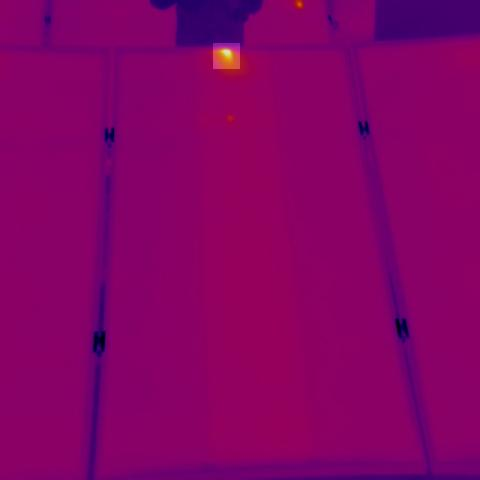fault: (213, 43, 240, 69)
